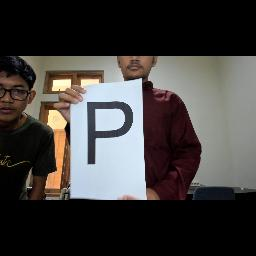p: (82, 98, 134, 166)
